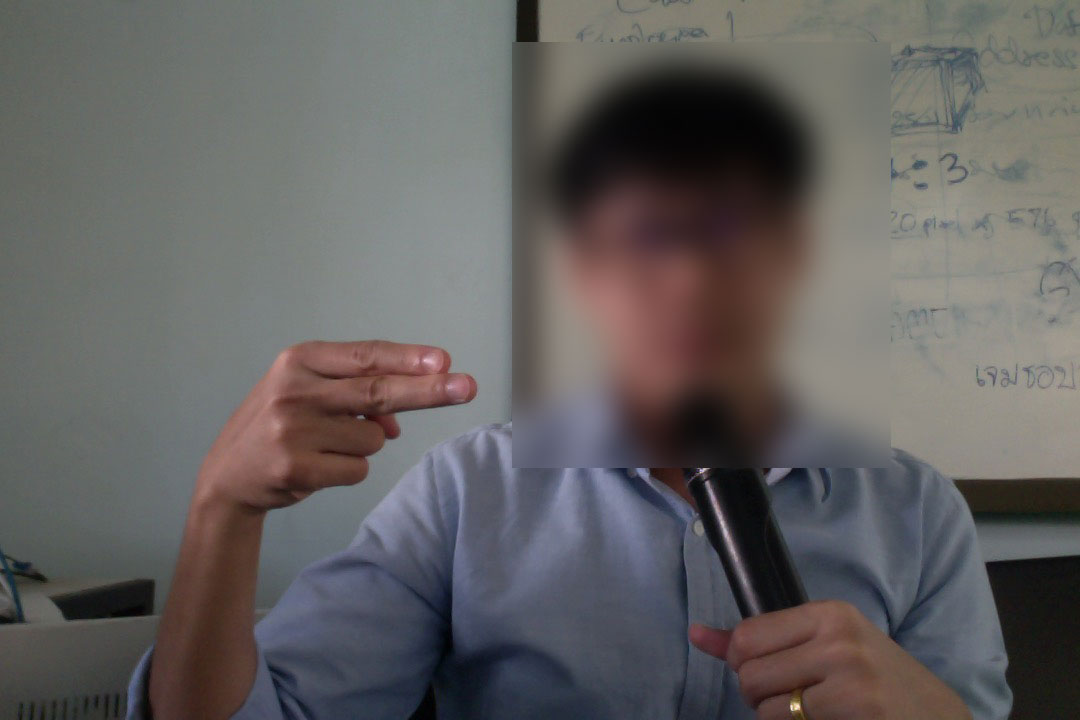hor: (212, 332, 482, 515)
